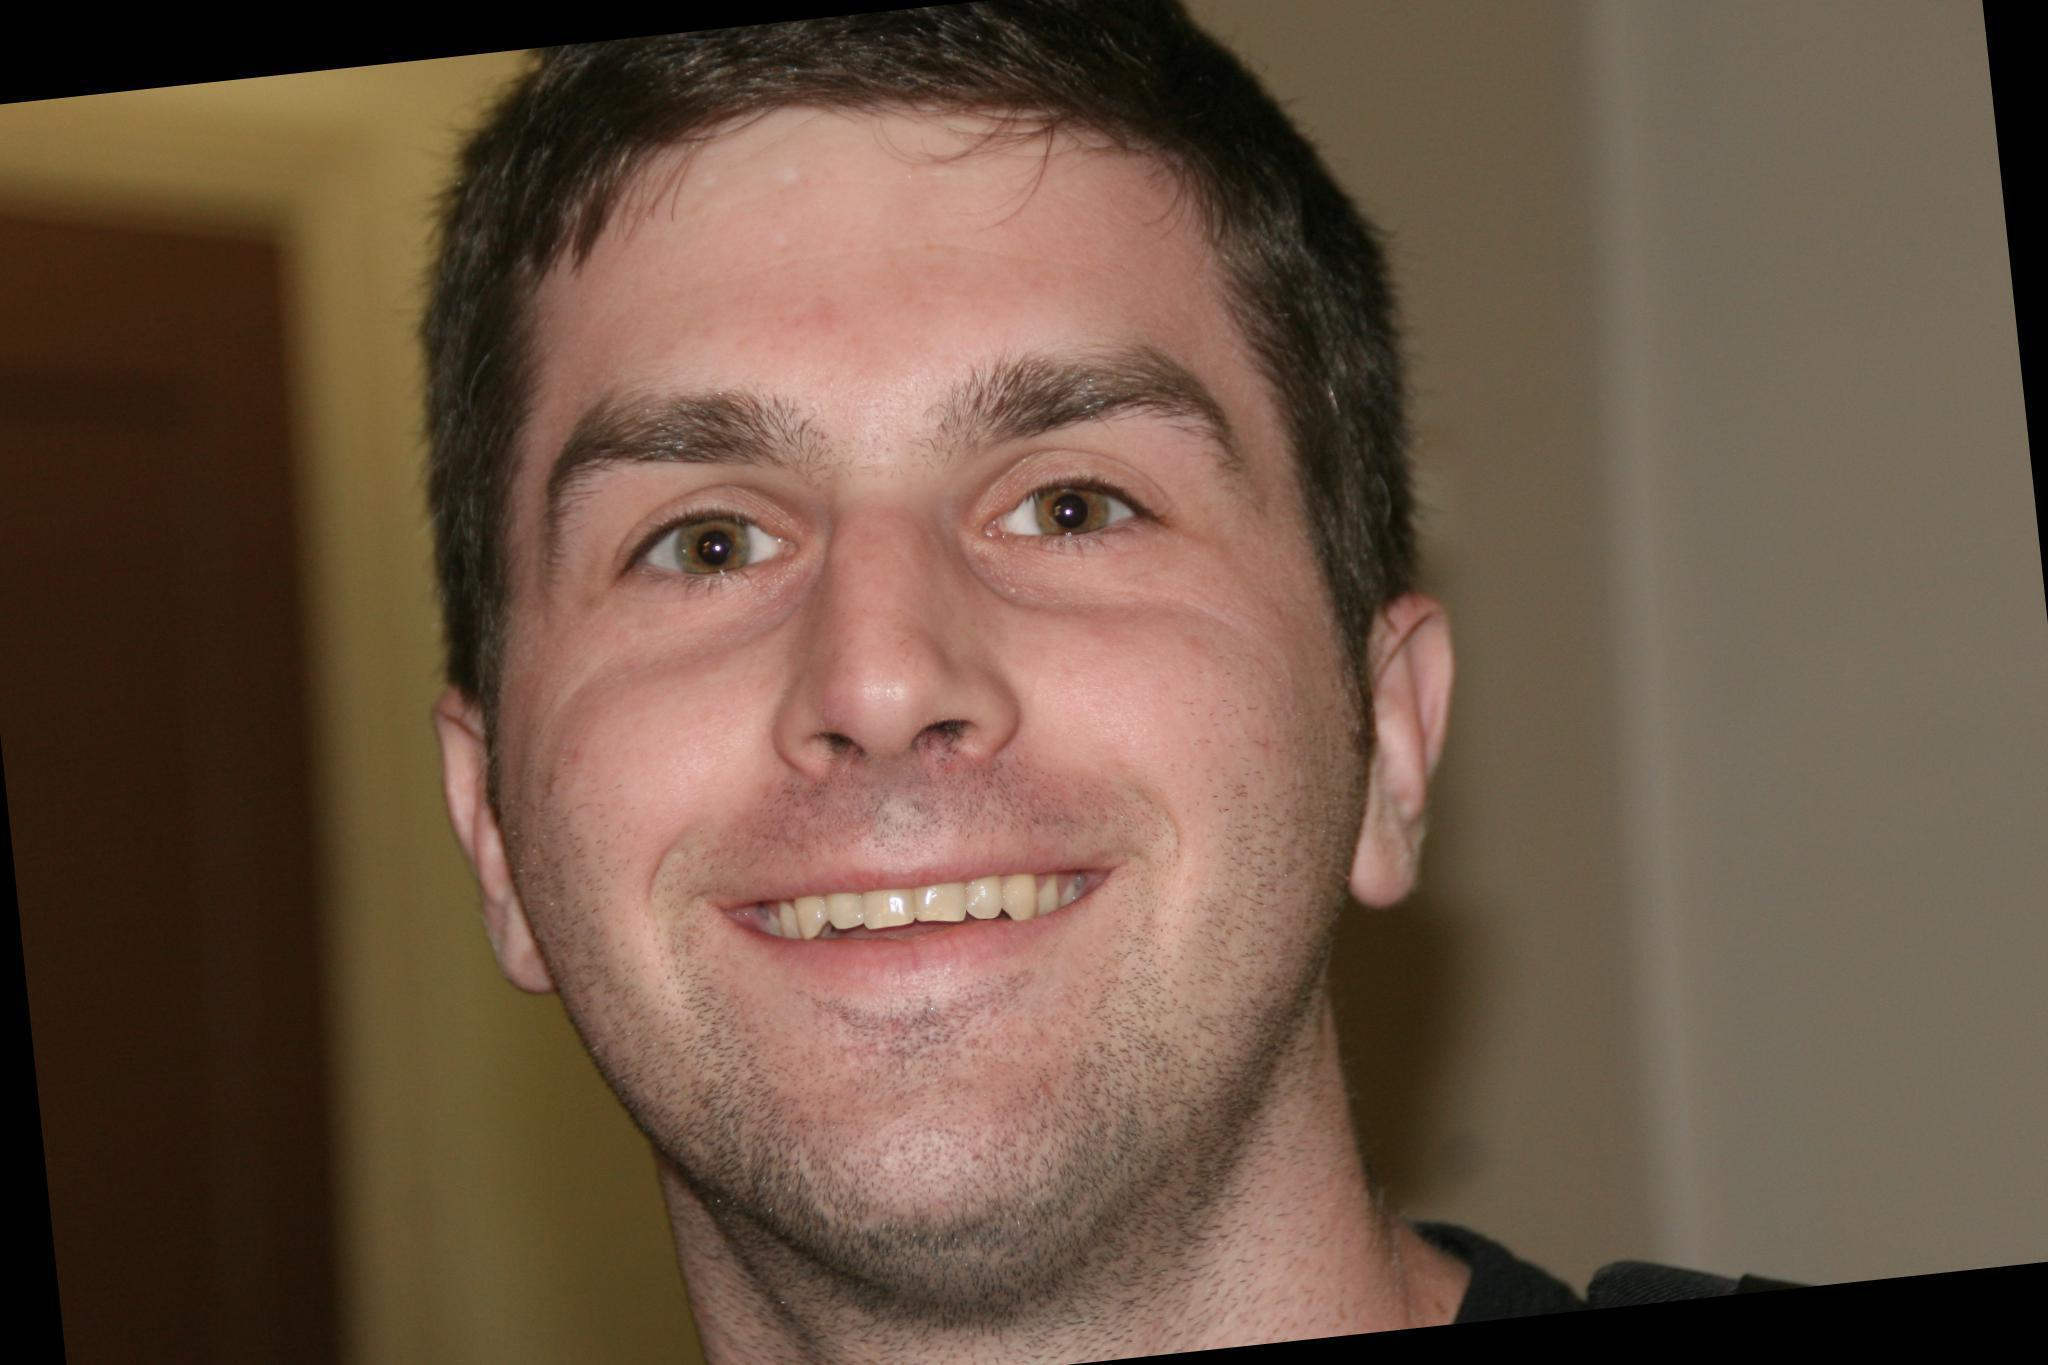Sober: (538, 142, 1290, 1136)
